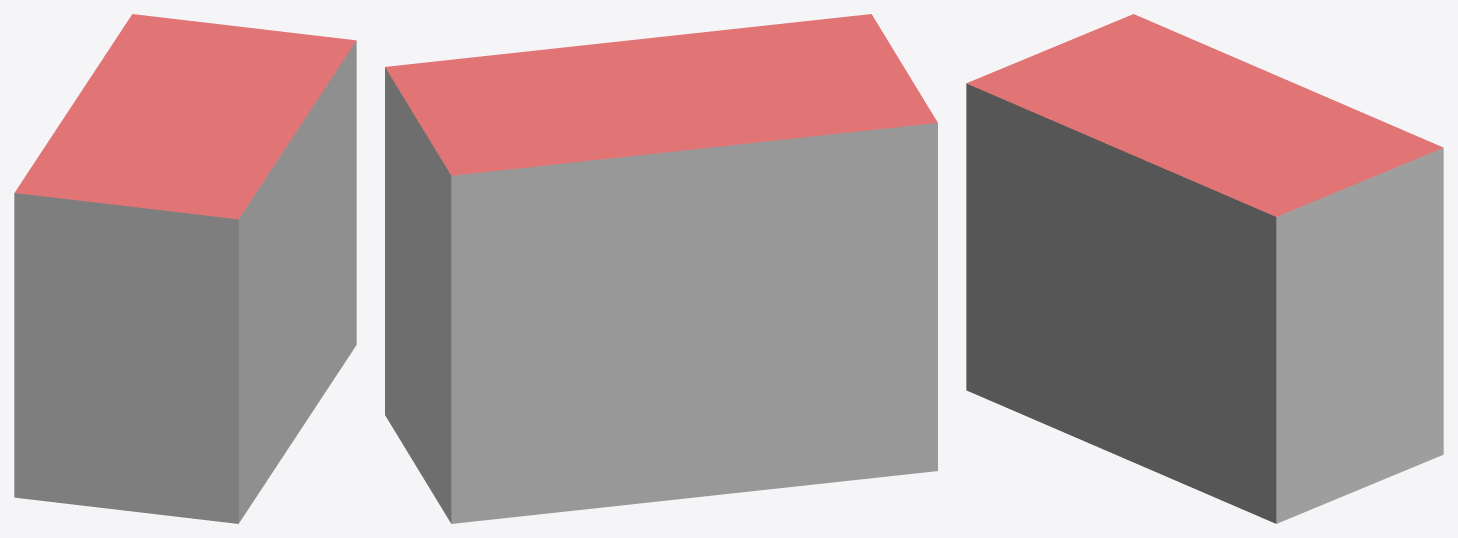
The picture shows the model from 3 angles, left to right: view 1: azimuth 30°, elevation 25°; view 2: azimuth 150°, elevation 25°; view 3: azimuth 270°, elevation 25°; orthographic projection. The views are drawn at different scales.
Parts seen in each view (by area): view 1: Z_UP; view 2: Z_UP; view 3: Z_UP.
Part boxes in pixels (bbox=[...]): Z_UP: bbox=[14, 14, 356, 523]; Z_UP: bbox=[385, 14, 937, 523]; Z_UP: bbox=[966, 14, 1443, 523].
Size of the model in its own units: 18.44 by 13 by 18.33.
